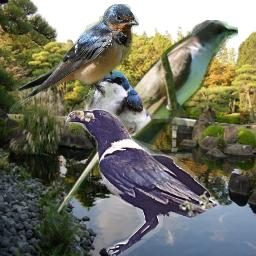Crow: (65, 108, 223, 256)
Cuckoo: (54, 20, 238, 216)
Swallow: (9, 4, 139, 113), (84, 70, 169, 145)
